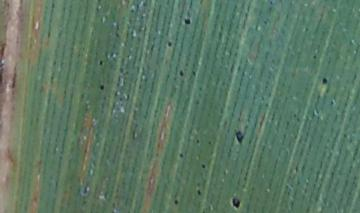tarspot: (228, 193, 243, 212), (233, 127, 246, 147), (181, 15, 193, 28), (164, 38, 174, 50), (320, 74, 330, 86), (97, 57, 106, 70), (177, 67, 186, 80), (96, 82, 106, 92), (194, 187, 203, 198), (172, 196, 180, 208), (200, 160, 208, 172), (177, 150, 185, 161), (195, 138, 202, 146)
